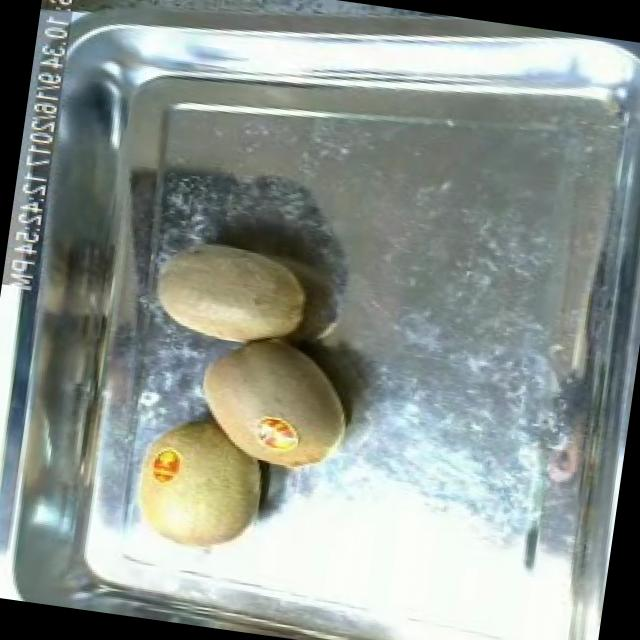Fruit: (182, 320, 367, 488), (120, 404, 280, 568), (140, 224, 320, 358)
